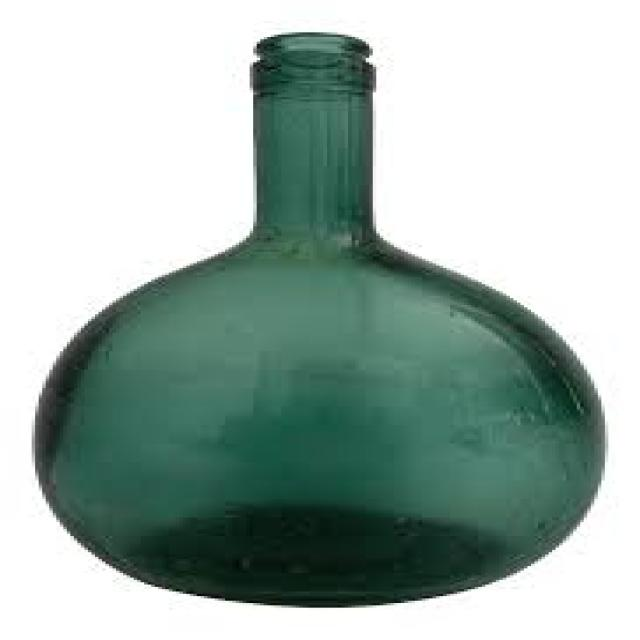glass: (32, 30, 601, 603)
